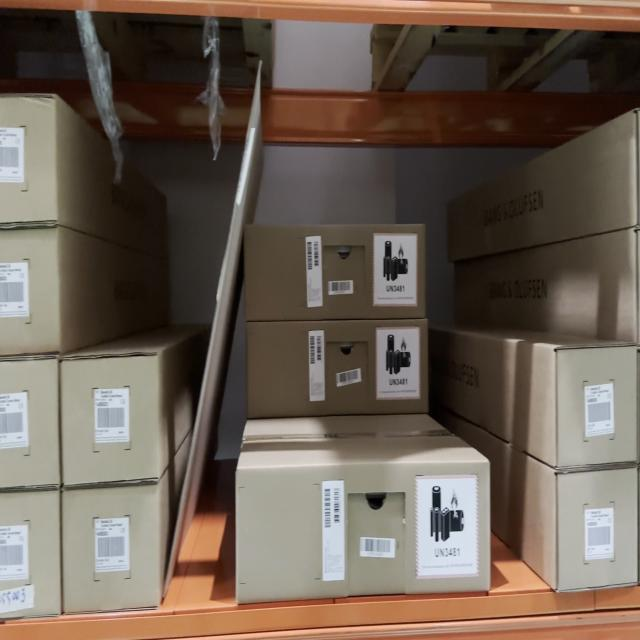box: (235, 467, 490, 597), (244, 230, 426, 320), (247, 321, 426, 412), (63, 354, 156, 482), (63, 489, 161, 608), (557, 472, 638, 587), (556, 349, 637, 461)
